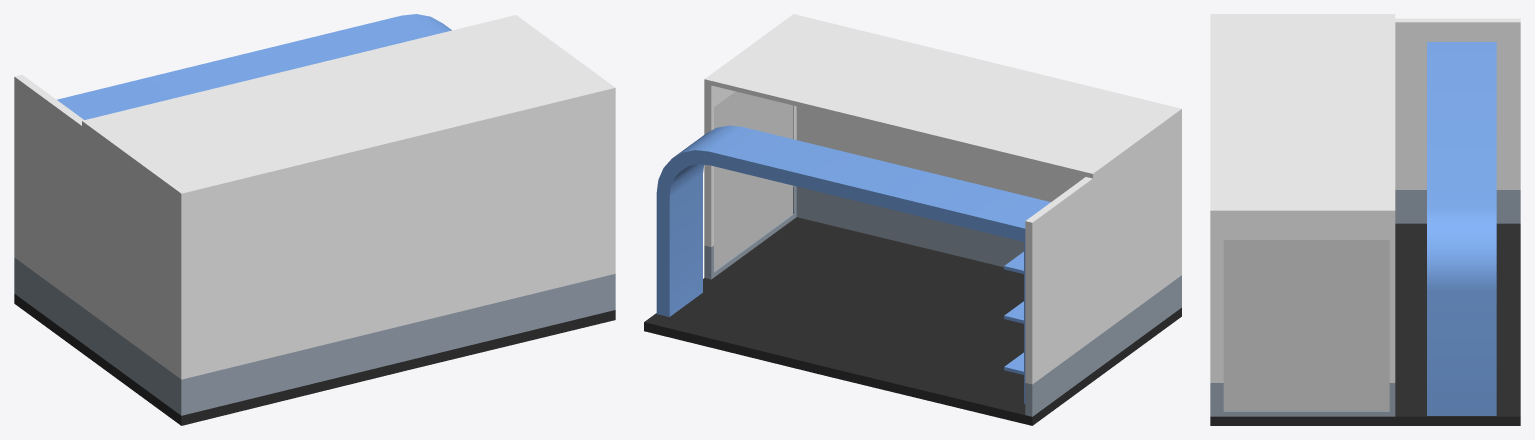
The model's file is Booth 02 base 1.fbx.
3 renders of one model, left to right at view 1: azimuth 30°, elevation 25°; view 2: azimuth 150°, elevation 25°; view 3: azimuth 270°, elevation 25°, orthographic. The views are drawn at different scales.
Parts seen in each view (by area): view 1: Wall, Atap, Wall L, Platform; view 2: Wall, Platform, Atap, Wall L, Kaca; view 3: Atap, Kaca, Wall L, Wall, Platform.
Part boxes in pixels (x1=…): Wall: x1=14, y1=74, x2=615, y2=415; Atap: x1=82, y1=15, x2=615, y2=198; Wall L: x1=57, y1=14, x2=451, y2=119; Platform: x1=14, y1=294, x2=615, y2=425; Wall: x1=704, y1=84, x2=1181, y2=416; Platform: x1=644, y1=217, x2=1181, y2=425; Atap: x1=704, y1=14, x2=1181, y2=178; Wall L: x1=656, y1=125, x2=1050, y2=403; Kaca: x1=714, y1=91, x2=792, y2=271; Atap: x1=1210, y1=14, x2=1395, y2=215; Kaca: x1=1223, y1=240, x2=1389, y2=410; Wall L: x1=1427, y1=42, x2=1496, y2=415; Wall: x1=1210, y1=18, x2=1520, y2=416; Platform: x1=1210, y1=223, x2=1520, y2=425.
Bounding box in the file's own units: 600 × 307 × 400.
